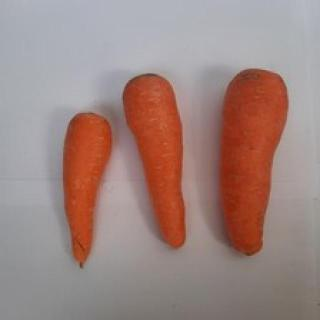carrot: (216, 68, 288, 256), (123, 73, 189, 248), (62, 111, 114, 263)
